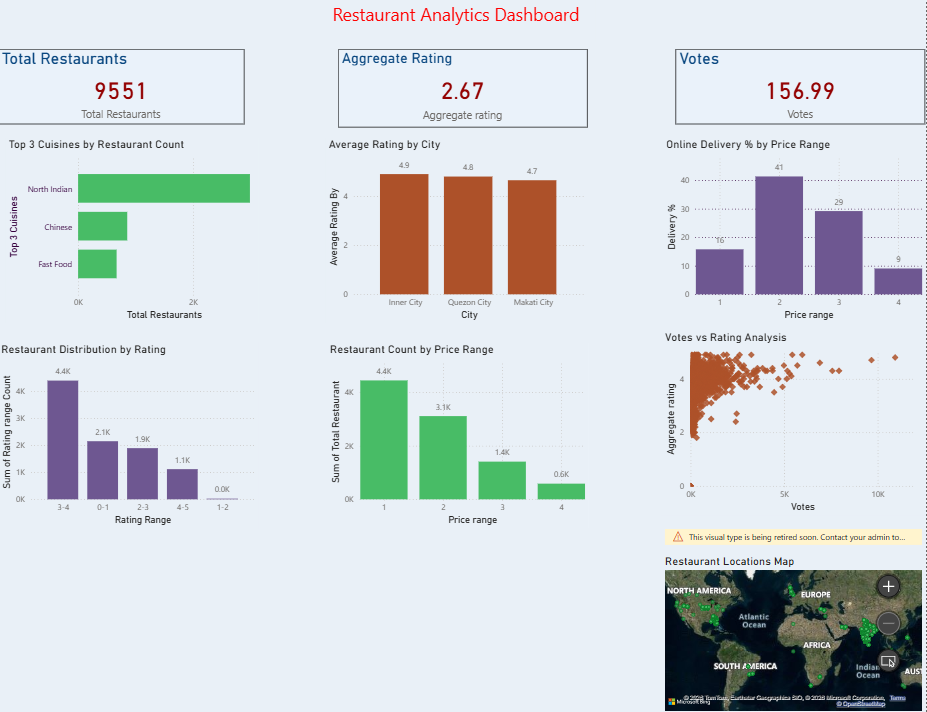

The dashboard page shown, as its layout file describes it:
{"tool":"powerbi","page":{"name":"Page 1","canvas":[1400,1080],"ordinal":0},"visuals":[{"type":"scatterChart","title":"Votes vs Rating Analysis","fields":{"X":["Dataset.Votes"],"Y":["Dataset.Aggregate rating"]},"box":[1002.6,500.7,397.7,279],"z":0},{"type":"clusteredColumnChart","title":"Restaurant Distribution by Rating","fields":{"Y":["Sum(Rating range. Rating range Count)"],"Category":["Rating range.Rating Range "]},"box":[0,518.9,392.4,280.3],"z":1000},{"type":"clusteredBarChart","title":"Top 3 Cuisines by Restaurant Count","fields":{"Category":["Top cuisines & %.Cuisines - Copy"],"Y":["Sum(Top cuisines & %.Restaurant Count)"]},"box":[10.4,208.6,382,280.3],"z":2000},{"type":"clusteredColumnChart","title":"Average Rating by City","fields":{"Y":["Avg(City with highest rating.Avg_Rating)"],"Category":["City with highest rating.City"]},"box":[494.1,208.6,396.3,280.3],"z":3000},{"type":"columnChart","title":"Restaurant Count by Price Range","fields":{"Category":["Price range count & percentage.Price range"],"Y":["Sum(Price range & online delivery&table booking.Total Restaurant)"]},"box":[495.4,518.9,395,280.3],"z":4000},{"type":"clusteredColumnChart","title":"Online Delivery % by Price Range","fields":{"Y":["Avg votes count.Delivery %"],"Category":["Price_Analysis.Price range"]},"box":[1003.9,208.6,396.3,280.3],"z":5000},{"type":"map","title":"Restaurant Locations Map","fields":{"Y":["Dataset.Latitude"],"X":["Dataset.Longitude"]},"box":[1002.6,799.2,397.7,280.3],"z":6000},{"type":"card","title":"Total Restaurants","fields":{"Values":["Count(Dataset.Restaurant ID)"]},"box":[0,75,371.7,113.3],"z":8000},{"type":"card","title":"Aggregate  Rating","fields":{"Values":["Avg(Dataset.Aggregate rating)"]},"box":[513.3,75,376.7,118.3],"z":9000},{"type":"card","title":"Votes","fields":{"Values":["Avg(Dataset.Votes)"]},"box":[1023.3,75,376.7,113.3],"z":10000},{"type":"textbox","box":[499.2,0,401.6,65.2],"z":10001}]}

Visuals, with their boxes in screenshot pixels (x1, y1, x2, y2), scaled from the page's 1400x1080 canvas onto the 927x712 screenshot:
"Votes vs Rating Analysis" scatterChart: left=664, top=330, right=926, bottom=514
"Restaurant Distribution by Rating" clusteredColumnChart: left=0, top=342, right=260, bottom=527
"Top 3 Cuisines by Restaurant Count" clusteredBarChart: left=7, top=138, right=260, bottom=322
"Average Rating by City" clusteredColumnChart: left=327, top=138, right=590, bottom=322
"Restaurant Count by Price Range" columnChart: left=328, top=342, right=590, bottom=527
"Online Delivery % by Price Range" clusteredColumnChart: left=665, top=138, right=926, bottom=322
"Restaurant Locations Map" map: left=664, top=527, right=926, bottom=711
"Total Restaurants" card: left=0, top=49, right=246, bottom=124
"Aggregate  Rating" card: left=340, top=49, right=589, bottom=127
"Votes" card: left=678, top=49, right=926, bottom=124
textbox: left=331, top=0, right=596, bottom=43
